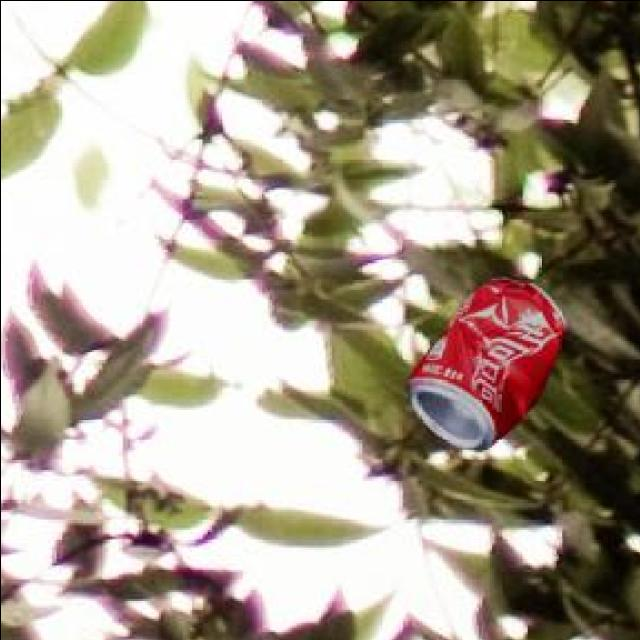logam: (403, 281, 561, 452)
